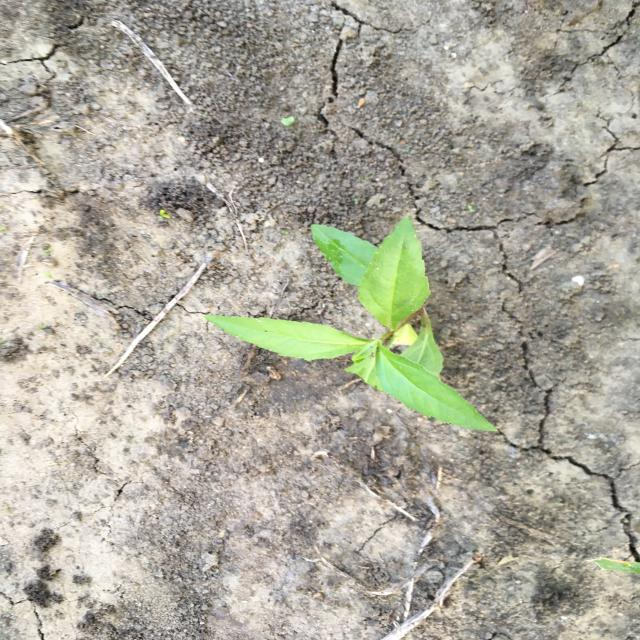Eclipta: (202, 214, 500, 432)
